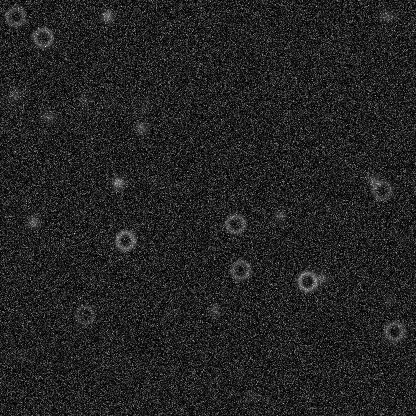Ring: (369, 178, 393, 202), (72, 302, 96, 326), (113, 228, 137, 252), (30, 25, 54, 49), (3, 4, 27, 28), (382, 319, 406, 343), (223, 211, 247, 235), (228, 257, 252, 281), (295, 269, 319, 293)
Spot: (40, 108, 56, 124), (13, 350, 29, 366), (7, 86, 23, 102), (364, 172, 380, 188), (137, 97, 153, 113), (206, 301, 222, 317), (381, 292, 397, 308), (76, 91, 92, 107), (110, 174, 126, 190), (243, 388, 259, 404), (272, 207, 288, 223), (378, 7, 394, 23), (25, 214, 41, 230), (99, 8, 115, 24), (314, 270, 330, 286), (132, 119, 148, 135)
